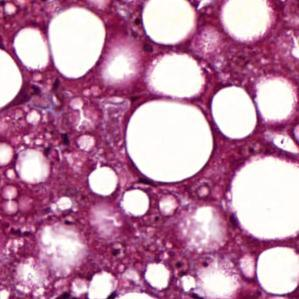steatosis: (124, 96, 213, 181), (44, 4, 108, 76), (211, 79, 259, 140)
